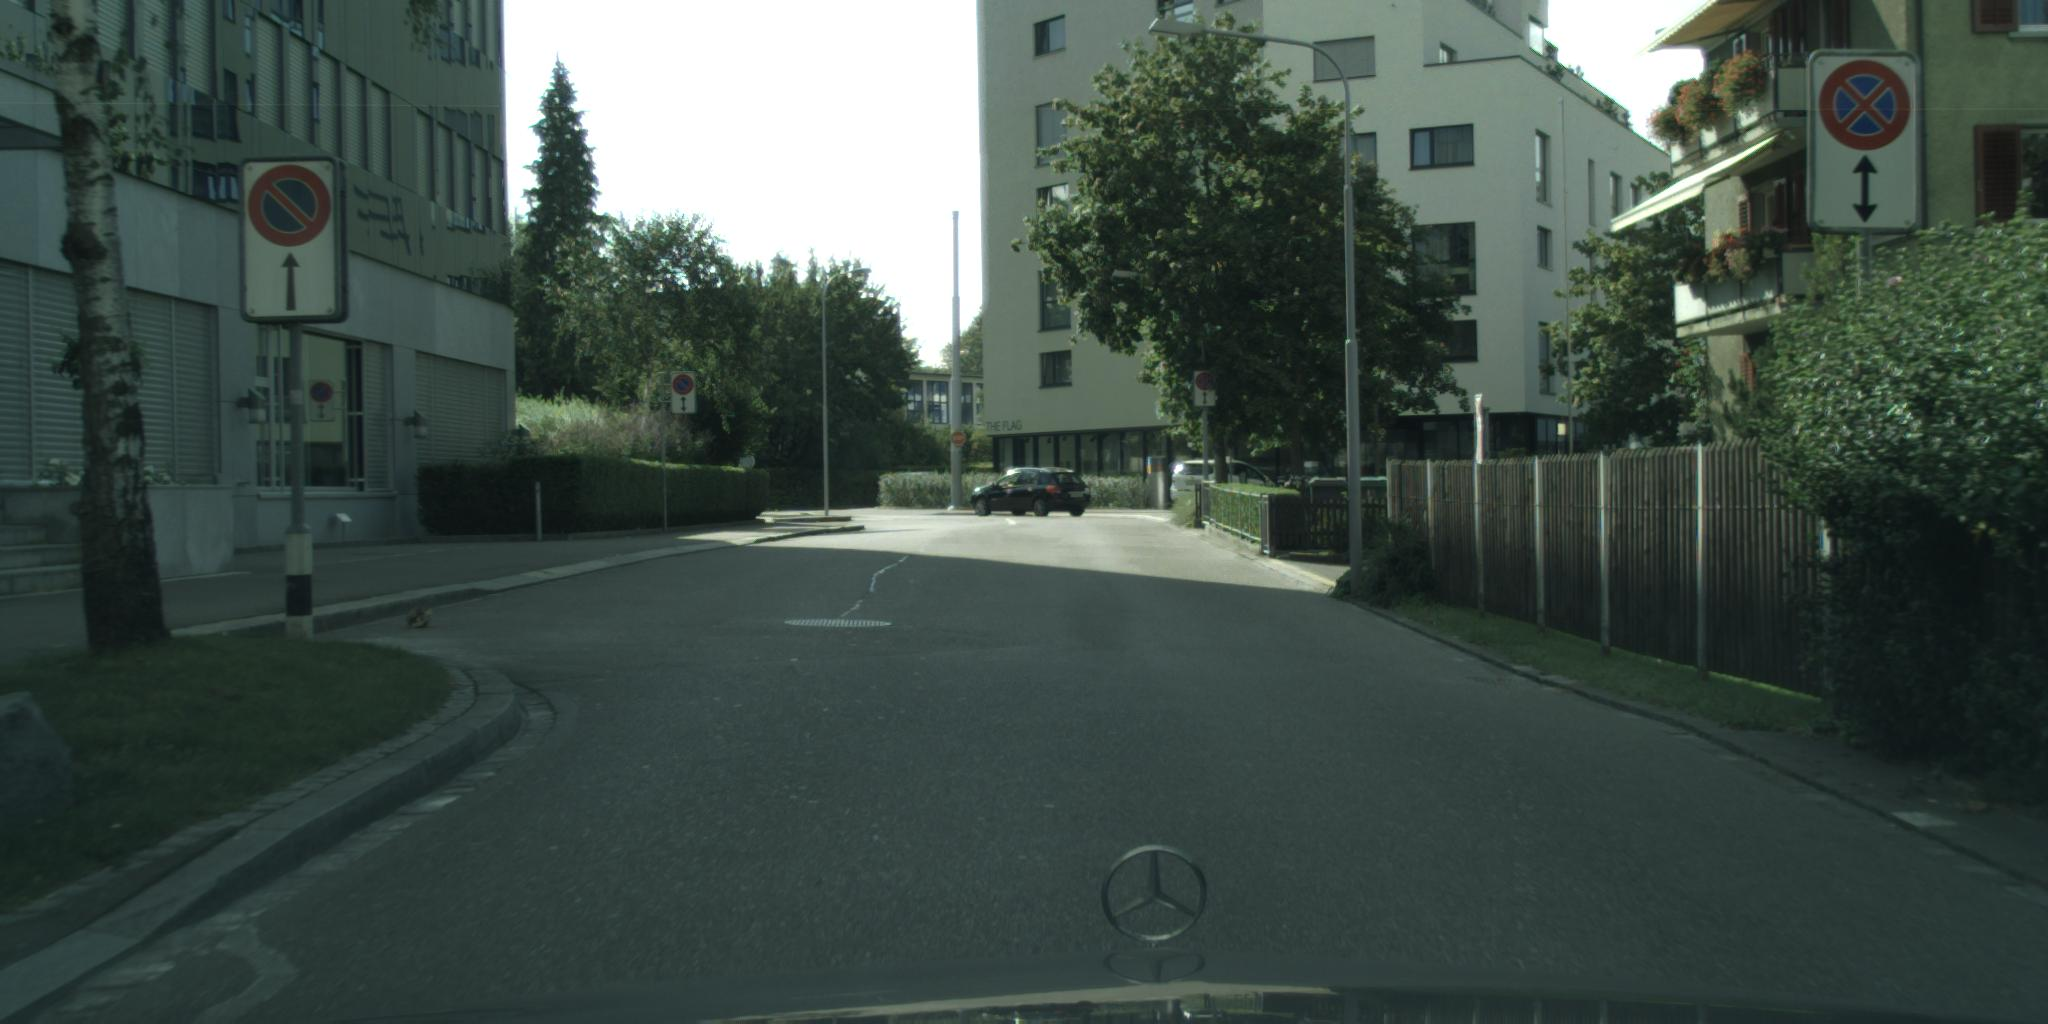car: (969, 468, 1092, 519), (1172, 458, 1284, 508)
